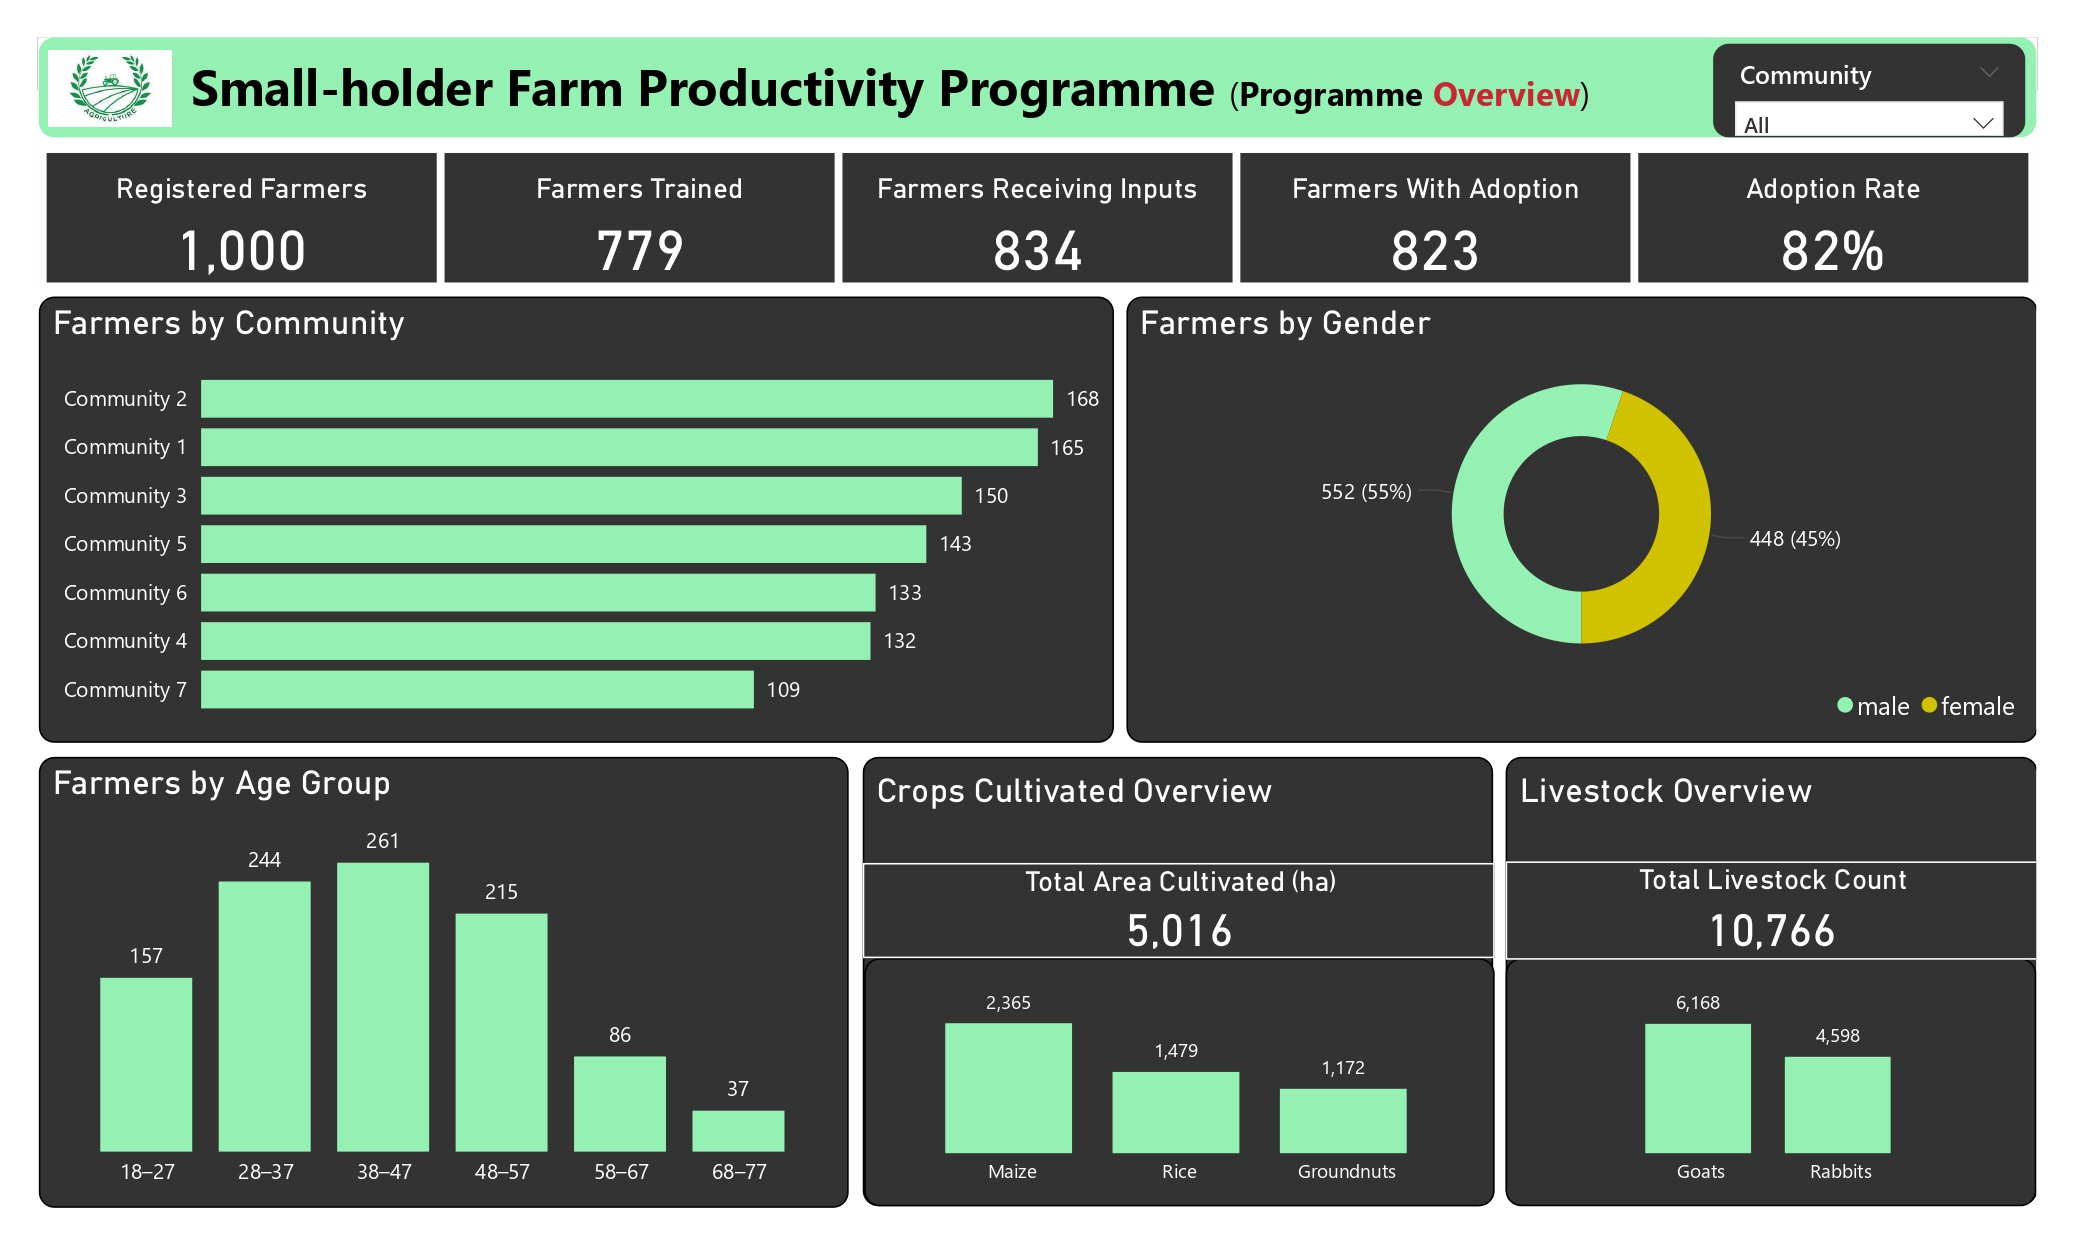

The dashboard page shown, as its layout file describes it:
{"tool":"powerbi","page":{"name":"1. Programme Overview","canvas":[1280,750],"ordinal":0},"visuals":[{"type":"barChart","title":"Farmers by Community","fields":{"Category":["mart_programme_overview.community"],"Y":["overview metrics.Registered Farmers"]},"box":[0,165.9,688.7,286.5],"z":0},{"type":"textbox","box":[940,461.2,340.6,287.5],"z":0,"group":"g2"},{"type":"textbox","box":[0,0,1280.2,64.1],"z":1000,"group":"g1"},{"type":"donutChart","title":"Farmers by Gender","fields":{"Category":["mart_programme_overview.gender"],"Y":["overview metrics.Registered Farmers"]},"box":[697.5,165.9,583.1,286.5],"z":1000},{"type":"textbox","box":[527.8,461.2,403,287.8],"z":1000,"group":"g3"},{"type":"columnChart","title":"Farmers by Age Group","fields":{"Y":["overview metrics.Registered Farmers"],"Category":["mart_programme_overview.Age Group"]},"box":[0,461.2,519,289],"z":2000},{"type":"cardVisual","fields":{"Data":["overview metrics.Registered Farmers","overview metrics.Farmers Trained","overview metrics.Farmers Receiving Inputs","overview metrics.Farmers With Adoption","overview metrics.Adoption Rate"]},"box":[0,69,1280.2,93.2],"z":3000},{"type":"group","id":"g1","title":"Group 1","box":[0,0,1280.2,64.1],"z":4000},{"type":"group","id":"g2","title":"Group 3","box":[940,461.2,340.6,287.8],"z":5000},{"type":"slicer","fields":{"Values":["mart_programme_overview.community"]},"box":[1073.2,3.8,199.8,60.3],"z":7000},{"type":"image","box":[0,2.5,90.5,59.1],"z":8000},{"type":"columnChart","fields":{"Category":["Crop.Crop"],"Y":["overview metrics.Cultivated Area by Crop"]},"box":[528.4,590.6,403,158.4],"z":8000,"group":"g3"},{"type":"columnChart","fields":{"Category":["Livestock.Livestock"],"Y":["overview metrics.Livestock Count"]},"box":[940,590.6,340.4,158.4],"z":9000,"group":"g2"},{"type":"card","title":"Total Area Cultivated (ha)","fields":{"Values":["overview metrics.Total Cultivated Area"]},"box":[527.8,529.1,403.4,61.6],"z":11000,"group":"g3"},{"type":"group","id":"g3","title":"Group 2","box":[527.8,461.2,403.6,287.8],"z":11001},{"type":"card","title":"Total Livestock Count","fields":{"Values":["overview metrics.Total Livestock Count"]},"box":[940,528.7,340.6,62.5],"z":12000,"group":"g2"}]}

Visuals, with their boxes on the page's 1280x750 design canvas (x1, y1, x2, y2). These are canvas units, not pixel positions in the 2075x1246 screenshot, which may show the page scaled, cropped or inside an application window:
"Farmers by Community" barChart: [x1=0, y1=166, x2=689, y2=452]
textbox: [x1=940, y1=461, x2=1281, y2=749]
textbox: [x1=0, y1=0, x2=1280, y2=64]
"Farmers by Gender" donutChart: [x1=698, y1=166, x2=1281, y2=452]
textbox: [x1=528, y1=461, x2=931, y2=749]
"Farmers by Age Group" columnChart: [x1=0, y1=461, x2=519, y2=750]
cardVisual - overview metrics.Registered Farmers x overview metrics.Farmers Trained: [x1=0, y1=69, x2=1280, y2=162]
"Group 1" group: [x1=0, y1=0, x2=1280, y2=64]
"Group 3" group: [x1=940, y1=461, x2=1281, y2=749]
slicer - mart_programme_overview.community: [x1=1073, y1=4, x2=1273, y2=64]
image: [x1=0, y1=2, x2=90, y2=62]
columnChart - Crop.Crop x overview metrics.Cultivated Area by Crop: [x1=528, y1=591, x2=931, y2=749]
columnChart - Livestock.Livestock x overview metrics.Livestock Count: [x1=940, y1=591, x2=1280, y2=749]
"Total Area Cultivated (ha)" card: [x1=528, y1=529, x2=931, y2=591]
"Group 2" group: [x1=528, y1=461, x2=931, y2=749]
"Total Livestock Count" card: [x1=940, y1=529, x2=1281, y2=591]
